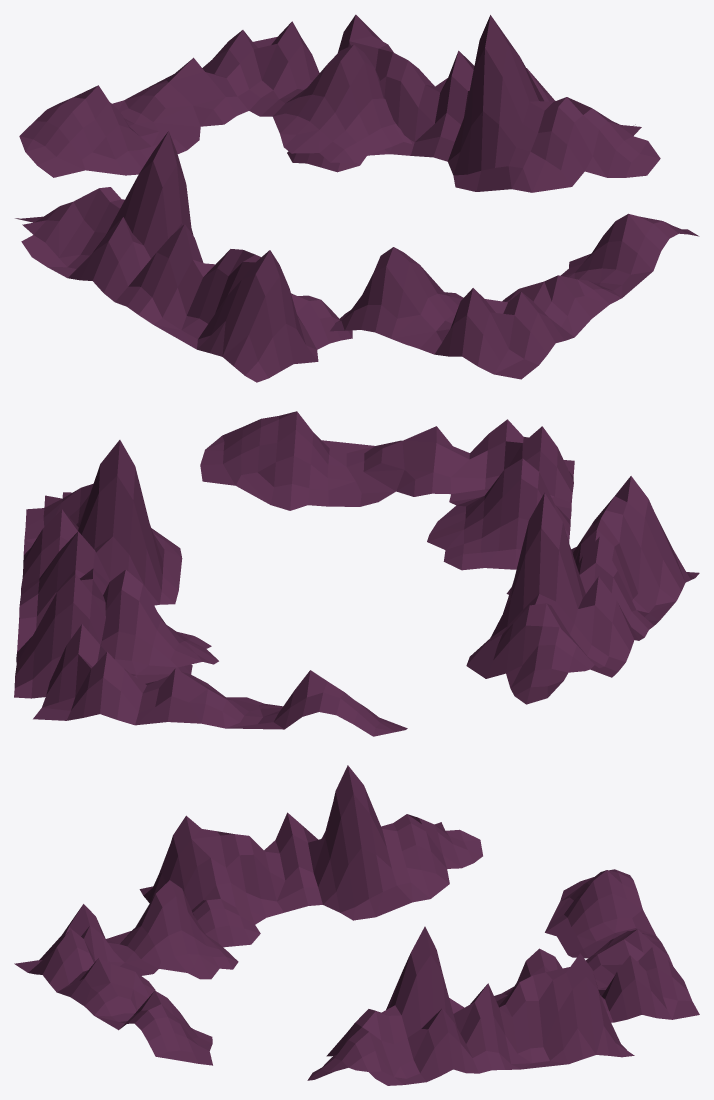
The model's file is landscape.gltf.
The picture shows the model from 3 angles, top to bottom: view 1: azimuth 30°, elevation 25°; view 2: azimuth 150°, elevation 25°; view 3: azimuth 270°, elevation 25°; orthographic projection. The views are drawn at different scales.
Visible parts, largest first — view 1: Plane.012, Plane.011; view 2: Plane.011, Plane.012; view 3: Plane.011, Plane.012.
Part boxes in pixels (bbox=[...]): Plane.012: bbox=[15, 21, 411, 382]; Plane.011: bbox=[287, 14, 699, 379]; Plane.011: bbox=[14, 411, 574, 698]; Plane.012: bbox=[33, 476, 699, 736]; Plane.011: bbox=[14, 880, 634, 1085]; Plane.012: bbox=[139, 765, 699, 1022].
Size of the model in its own units: 57.29 by 15.72 by 66.15.
